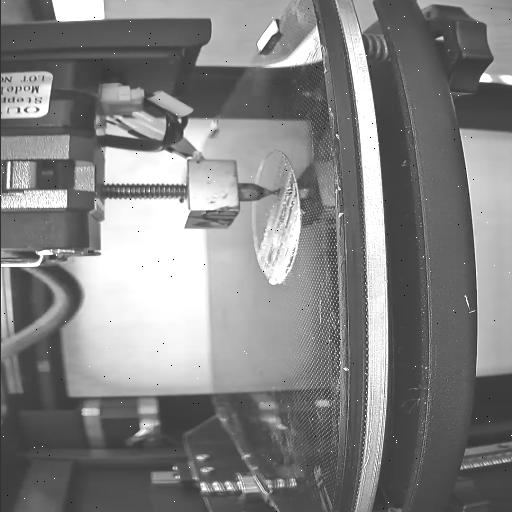under_extrusion: (276, 174, 298, 232), (262, 244, 296, 272)
